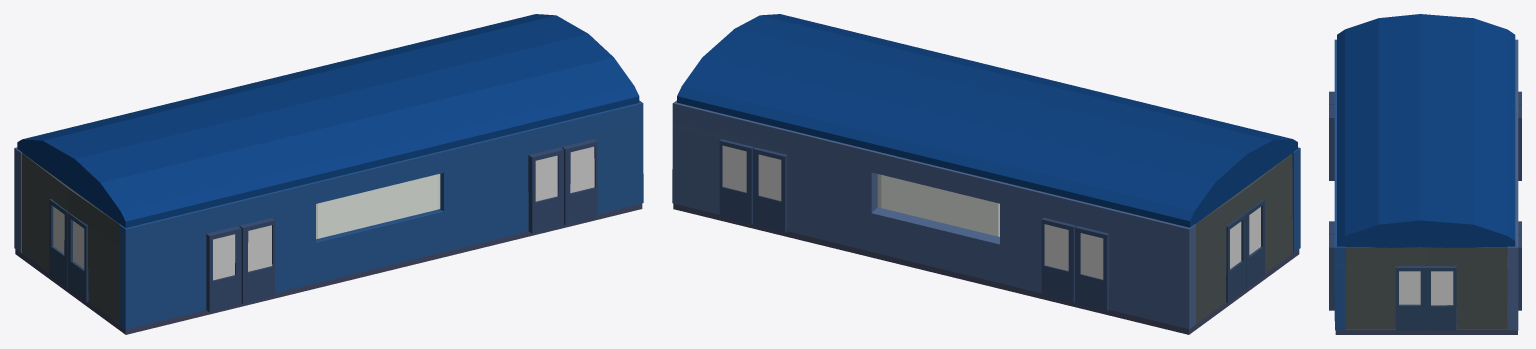
File: Trains.fbx
3 views of the same model, side by side, from view 1: azimuth 30°, elevation 25°; view 2: azimuth 150°, elevation 25°; view 3: azimuth 270°, elevation 25° (orthographic). The views are drawn at different scales.
Visible parts, largest first — view 1: Atap, Tembok.004, Tembok.003, Pintu.007, Pintu.006, Jendela.001, Lantai, Pintu.003, Pintu.004, Tembok, Kaca.002, Kaca.003; view 2: Atap, Tembok, Tembok.003, Pintu.005, Pintu, Jendela, Lantai, Pintu.004, Pintu.003, Tembok.004, Kaca.002, Kaca.003; view 3: Atap, Tembok.2, Tembok, Tembok.004, Pintu.1, Pintu.002, Lantai, Kaca.001, Kaca, Pintu.006, Pintu.007, Pintu (+1 smaller).
Part boxes in pixels (left/top/right/bottom): Atap: left=17, top=14, right=639, bottom=227; Tembok.004: left=119, top=100, right=643, bottom=329; Tembok.003: left=22, top=153, right=119, bottom=323; Pintu.007: left=528, top=139, right=597, bottom=233; Pintu.006: left=206, top=218, right=274, bottom=312; Jendela.001: left=316, top=174, right=440, bottom=239; Lantai: left=15, top=203, right=642, bottom=334; Pintu.003: left=68, top=212, right=88, bottom=302; Pintu.004: left=49, top=199, right=68, bottom=288; Tembok: left=14, top=147, right=22, bottom=252; Kaca.002: left=73, top=221, right=84, bottom=268; Kaca.003: left=53, top=206, right=64, bottom=253; Atap: left=677, top=14, right=1297, bottom=227; Tembok: left=672, top=100, right=1195, bottom=329; Tembok.003: left=1196, top=154, right=1292, bottom=323; Pintu.005: left=719, top=139, right=787, bottom=232; Pintu: left=1041, top=218, right=1109, bottom=311; Jendela: left=877, top=174, right=999, bottom=236; Lantai: left=673, top=203, right=1299, bottom=334; Pintu.004: left=1226, top=213, right=1246, bottom=302; Pintu.003: left=1245, top=199, right=1264, bottom=289; Tembok.004: left=1292, top=147, right=1300, bottom=252; Kaca.002: left=1249, top=207, right=1260, bottom=254; Kaca.003: left=1230, top=221, right=1241, bottom=268; Atap: left=1337, top=14, right=1515, bottom=247; Tembok.2: left=1345, top=247, right=1507, bottom=329; Tembok: left=1507, top=39, right=1518, bottom=330; Tembok.004: left=1334, top=39, right=1345, bottom=330; Pintu.1: left=1395, top=266, right=1426, bottom=330; Pintu.002: left=1426, top=266, right=1456, bottom=330; Lantai: left=1335, top=256, right=1517, bottom=334; Kaca.001: left=1431, top=271, right=1453, bottom=305; Kaca: left=1399, top=271, right=1420, bottom=304; Pintu.006: left=1329, top=91, right=1334, bottom=180; Pintu.007: left=1329, top=221, right=1334, bottom=310; Pintu: left=1518, top=91, right=1521, bottom=180.
Size of the model in its own units: 2990 by 1164 by 757.
